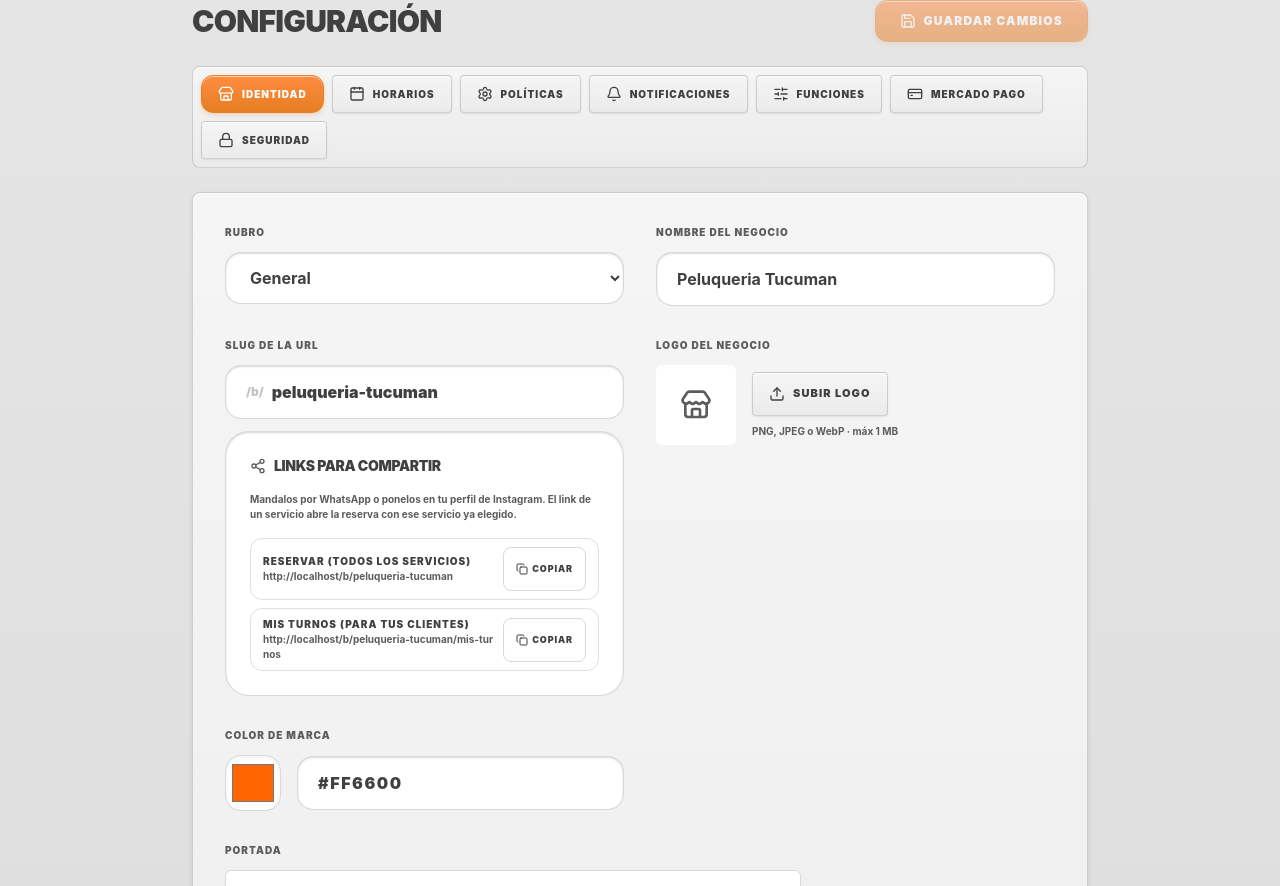
Test: SettingsPage - horarios (FF-08) › apertura igual o posterior al cierre apaga Guardar y dice por que
Click the button "Horarios". click: (392, 94)
box: [332, 75, 452, 113]
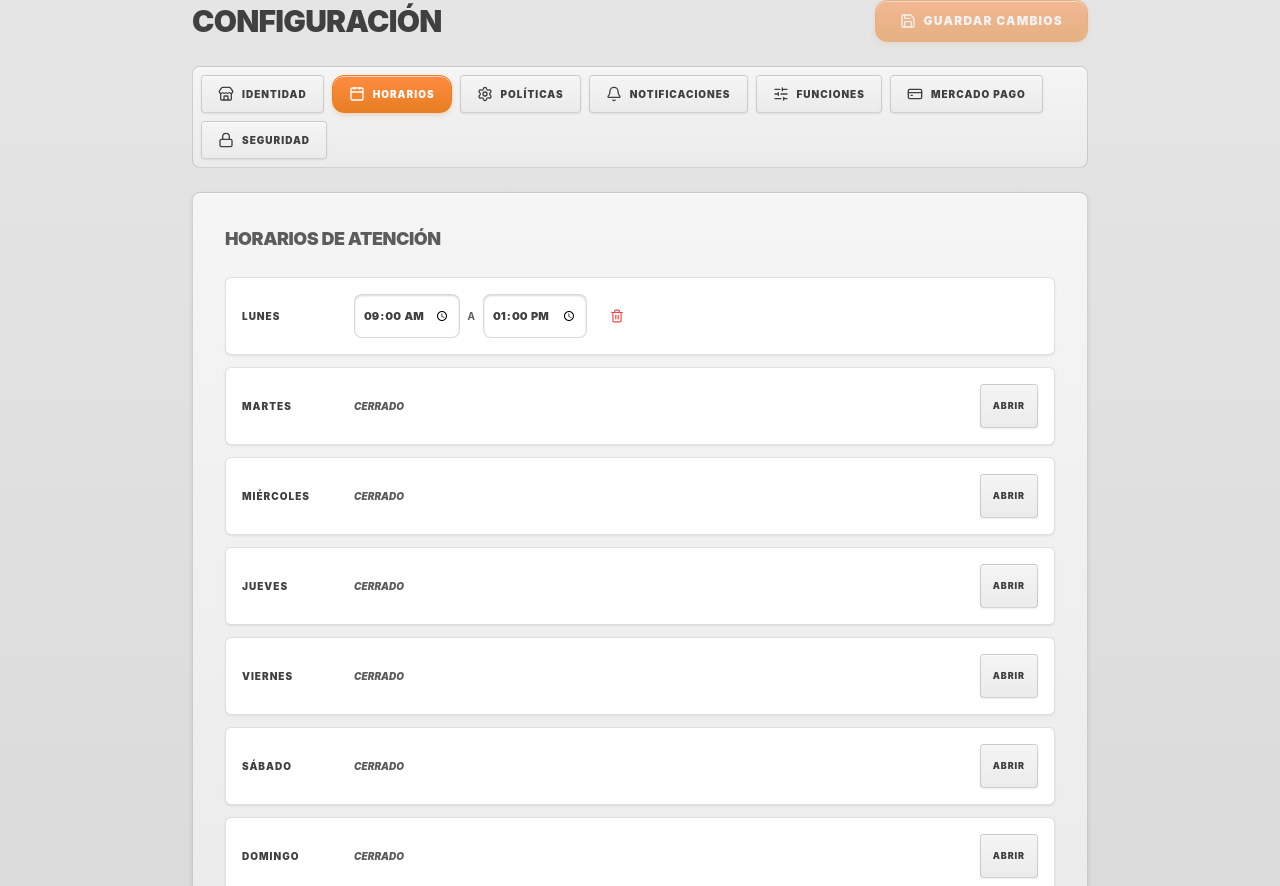
Replace the text in the time field named "Cierre Lunes" with "09:00". click: (535, 316)
box: [483, 294, 586, 338]
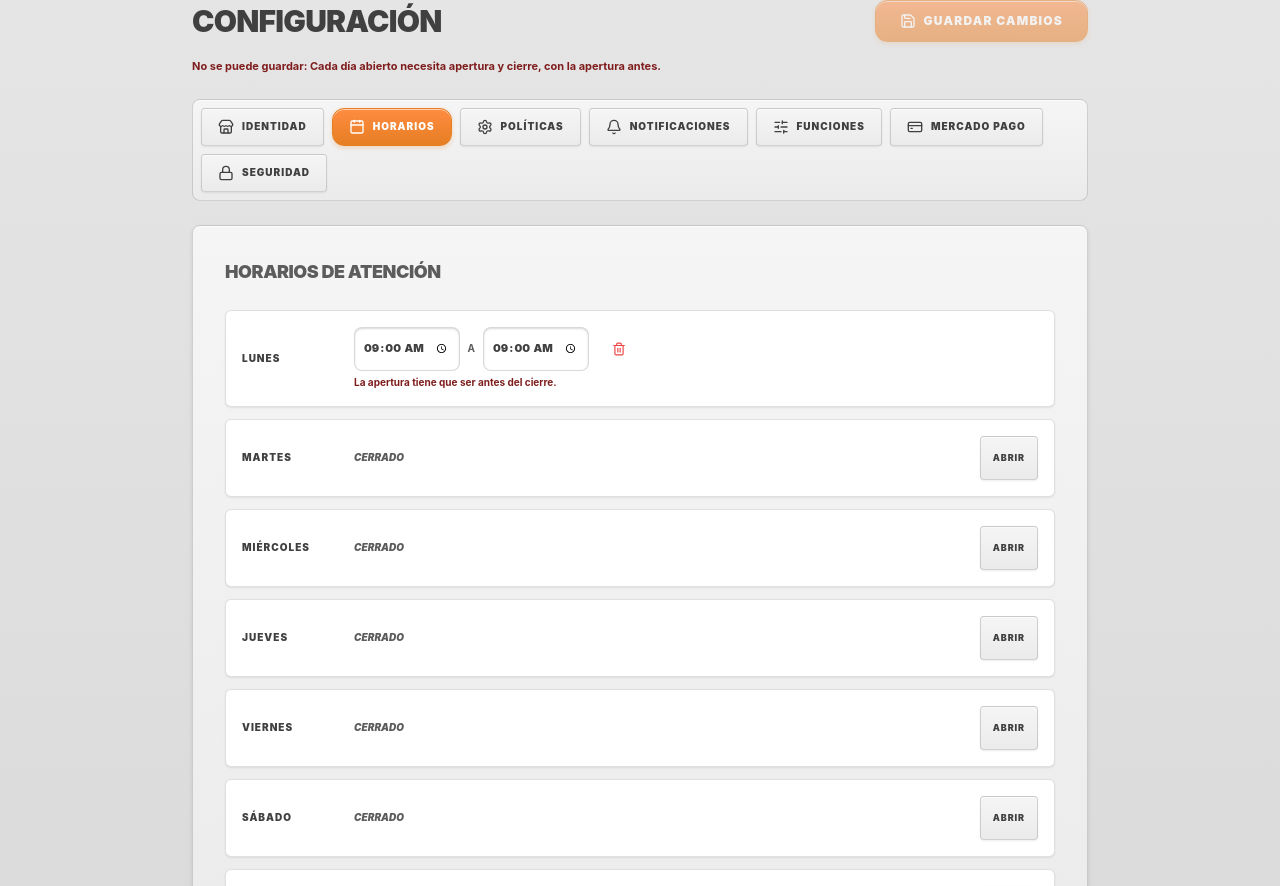
Expected: the button "Guardar Cambios" is disabled, [874, 0, 1088, 42]
Expected: the text "No se puede guardar" is shown, [192, 59, 310, 73]
